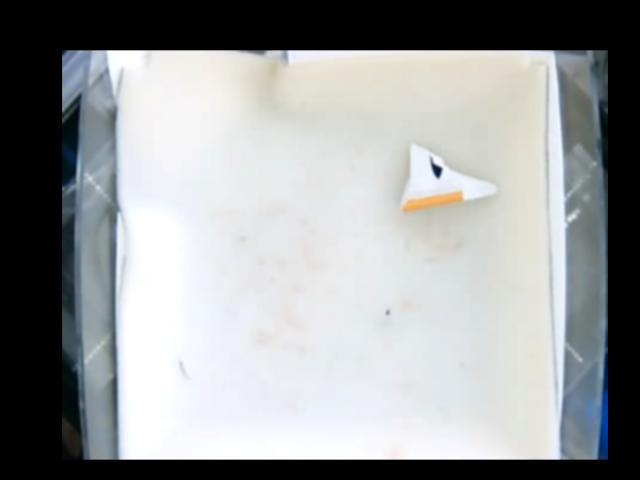China: (397, 142, 502, 209)
